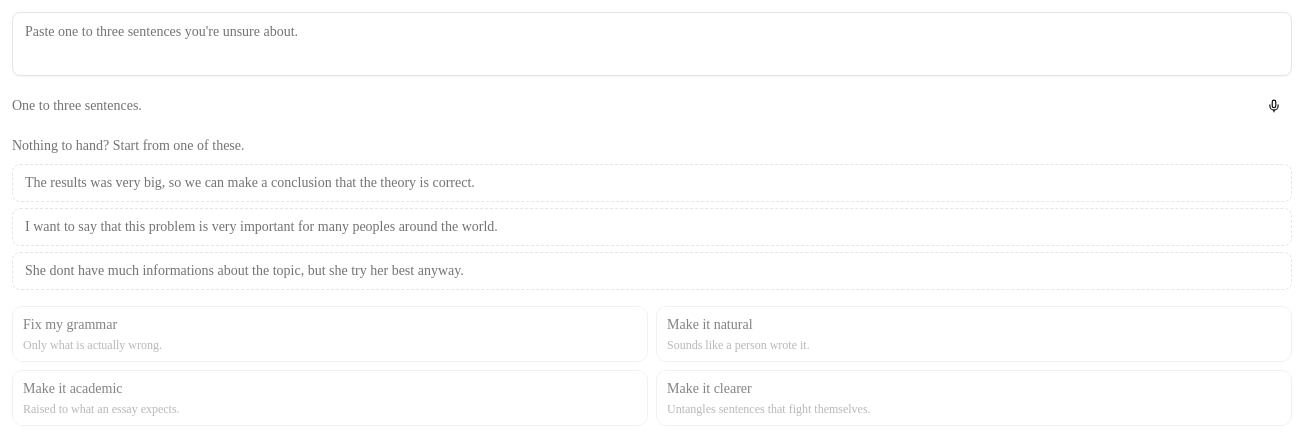
Test: ComposePanel with an empty box › fills the box from an example without spending a request
The image size is (1304, 443).
Click the button with test id "example": (250, 182) [12, 164, 1292, 202]
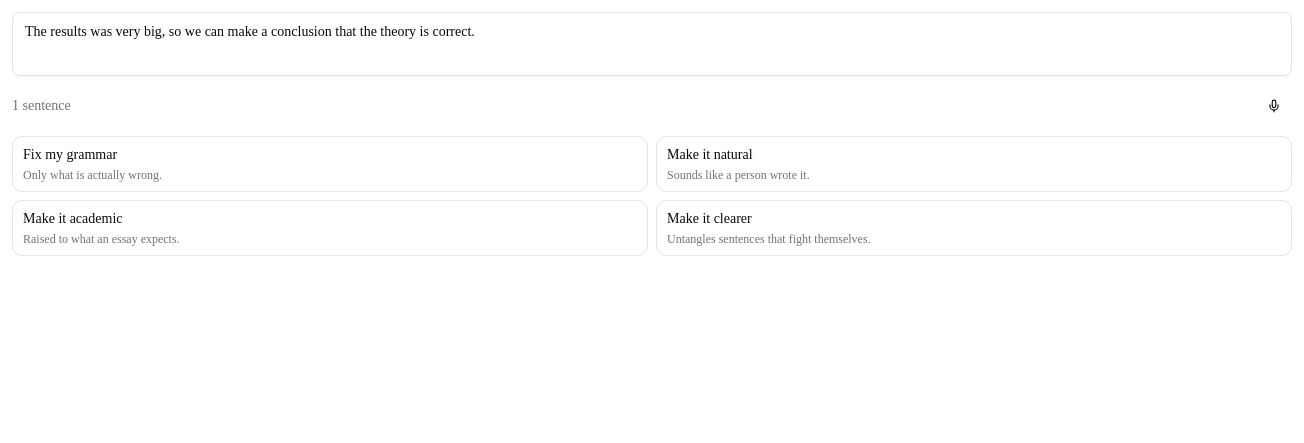
Now the text box with test id "compose" holds "The results was very big, so we can make a conclusion that the theory is correct.", box [12, 12, 1292, 76]
